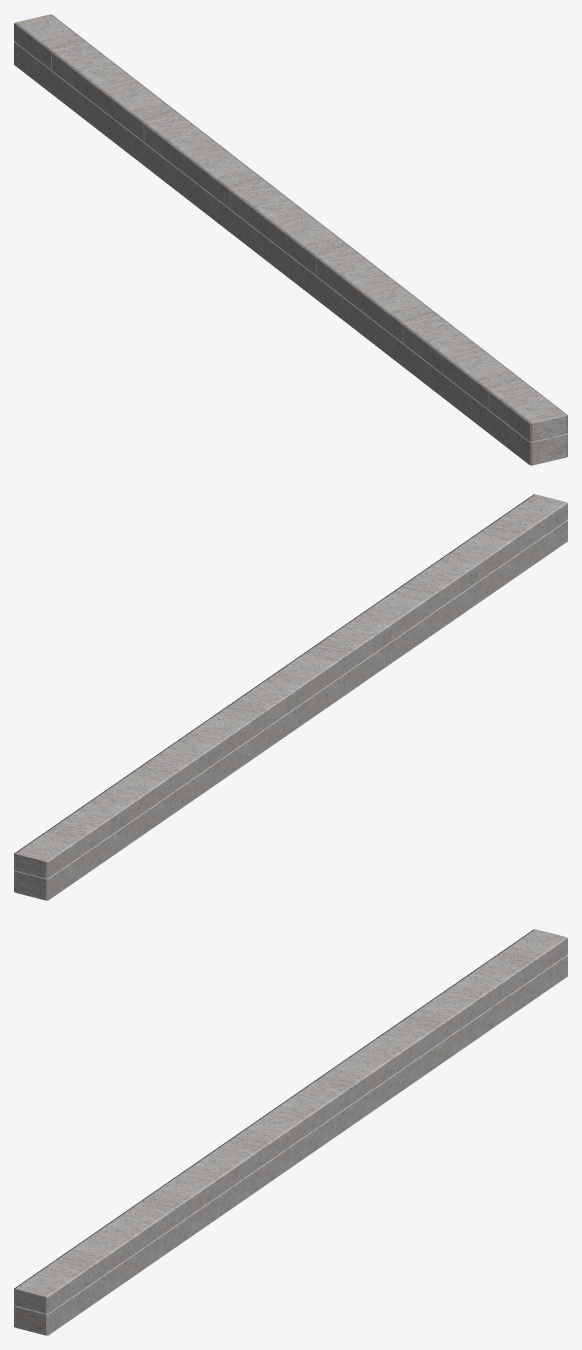
Rendered from SM_Gidan01M_Splines_82.fbx.
3 views of the same model, one above another, from view 1: azimuth 30°, elevation 25°; view 2: azimuth 150°, elevation 25°; view 3: azimuth 330°, elevation 25° (orthographic). The views are drawn at different scales.
Visible parts, largest first — view 1: SM_Gidan01M_Splines_82; view 2: SM_Gidan01M_Splines_82; view 3: SM_Gidan01M_Splines_82.
Part boxes in pixels (<box>): SM_Gidan01M_Splines_82: <box>14,14,567,465</box>; SM_Gidan01M_Splines_82: <box>14,494,567,900</box>; SM_Gidan01M_Splines_82: <box>14,929,567,1335</box>.
Bounding box in the file's own units: 117 × 1801 × 78.37.
